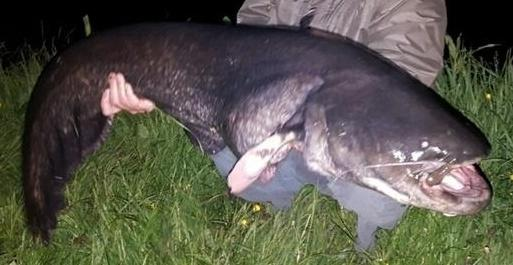Catfish: (18, 3, 495, 247)
